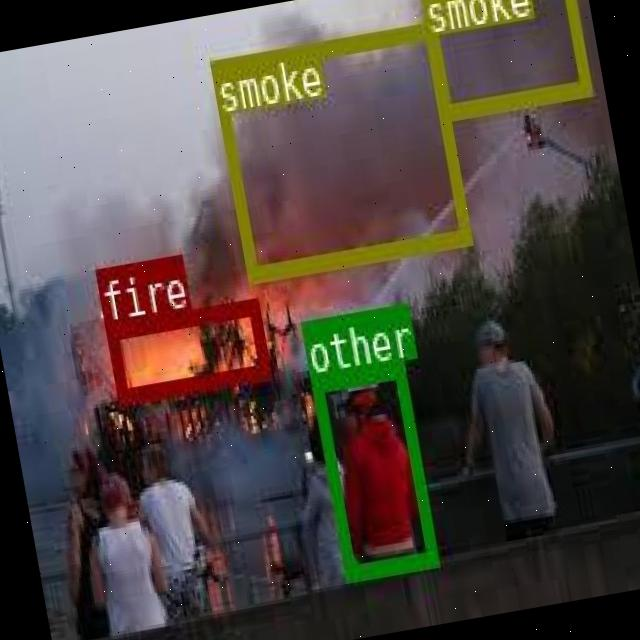fire: (102, 297, 268, 404)
smoke: (208, 18, 468, 280), (416, 0, 590, 120)
